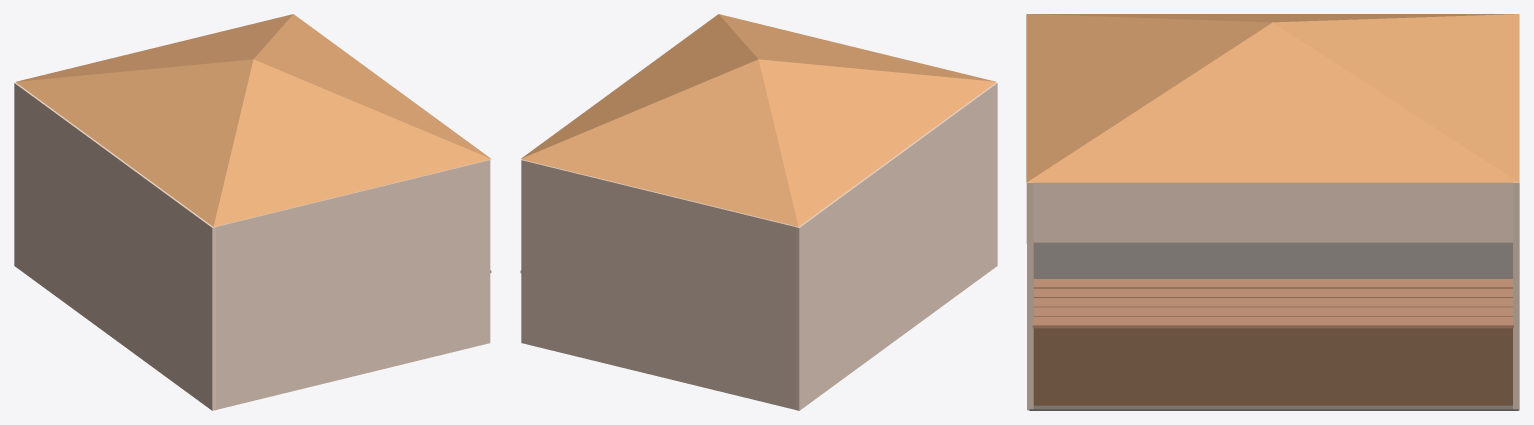
Rendered from conmesa.glb.
The picture shows the model from 3 angles, left to right: view 1: azimuth 30°, elevation 25°; view 2: azimuth 150°, elevation 25°; view 3: azimuth 270°, elevation 25°; orthographic projection. The views are drawn at different scales.
Parts seen in each view (by area): view 1: Cubo.001, Cube.003, Cube.004; view 2: Cubo.001, Cube.001, Cube.004; view 3: Cubo.001, Cubo.002, Cube.004, Cubo, Cubo.006, Cubo.005, Cubo.007, Cubo.003, Cubo.004, Cube.001, Cube.003.
Boxes of the visible parts, x1,y1,x2,y2 form: Cubo.001: (16, 14, 491, 226); Cube.003: (215, 159, 490, 409); Cube.004: (14, 82, 215, 410); Cubo.001: (521, 14, 996, 226); Cube.001: (521, 159, 796, 409); Cube.004: (795, 82, 997, 410); Cubo.001: (1026, 14, 1519, 182); Cubo.002: (1033, 328, 1512, 405); Cube.004: (1026, 14, 1519, 243); Cubo: (1029, 242, 1518, 410); Cubo.006: (1032, 316, 1513, 328); Cubo.005: (1033, 307, 1512, 316); Cubo.007: (1033, 279, 1512, 288); Cubo.003: (1033, 288, 1512, 297); Cubo.004: (1033, 298, 1512, 307); Cube.001: (1513, 17, 1519, 410); Cube.003: (1027, 182, 1033, 410).
Bounding box in the file's own units: 24.07 × 20.03 × 29.41.
